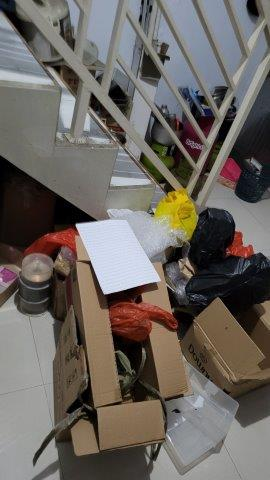kertas: (73, 218, 164, 295)
